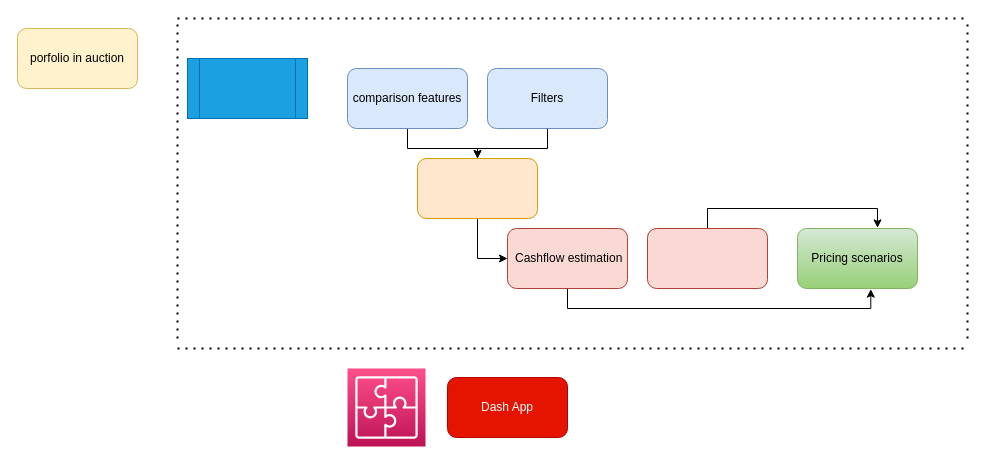
Some shapes in this 988 by 464 pixel diagram are drawn without their labels. The centre of each missing label's shape, as x and y in pixels:
"comparables" goes at (477,188).
"Costs Estimation" goes at (707,258).
"Dashboard for data exploration" goes at (247,88).
